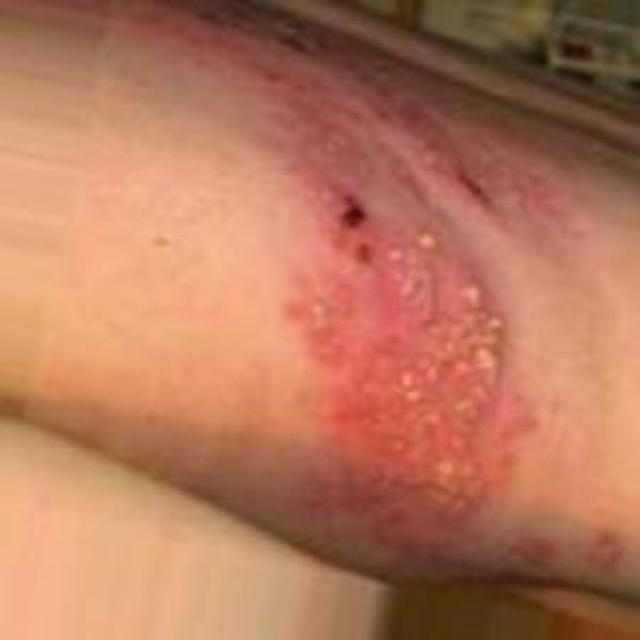Shingles: (287, 222, 505, 537)
